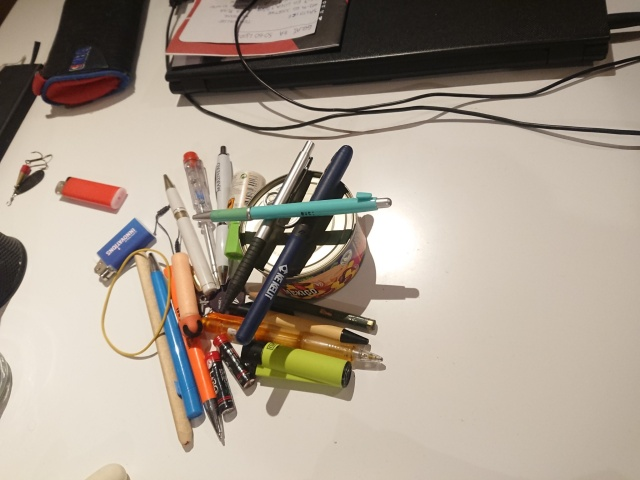Giana Tuna Salad Mexico 185g: (236, 166, 370, 307)
